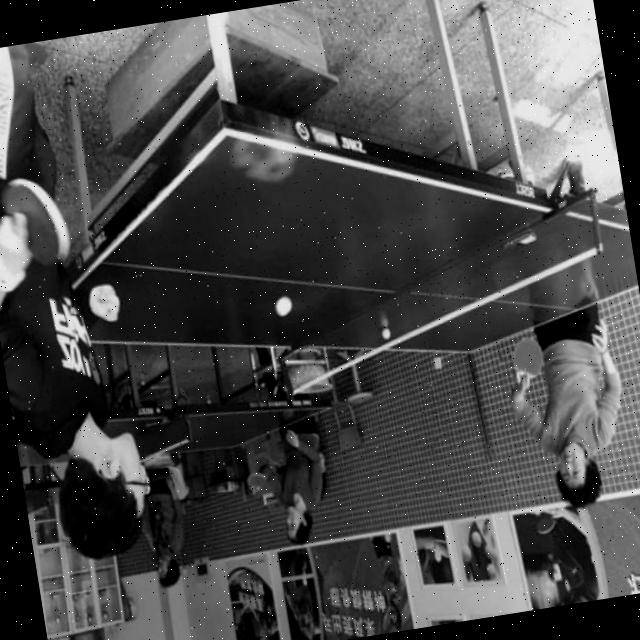ping-pong-ball: (268, 292, 294, 324), (376, 324, 392, 344)
